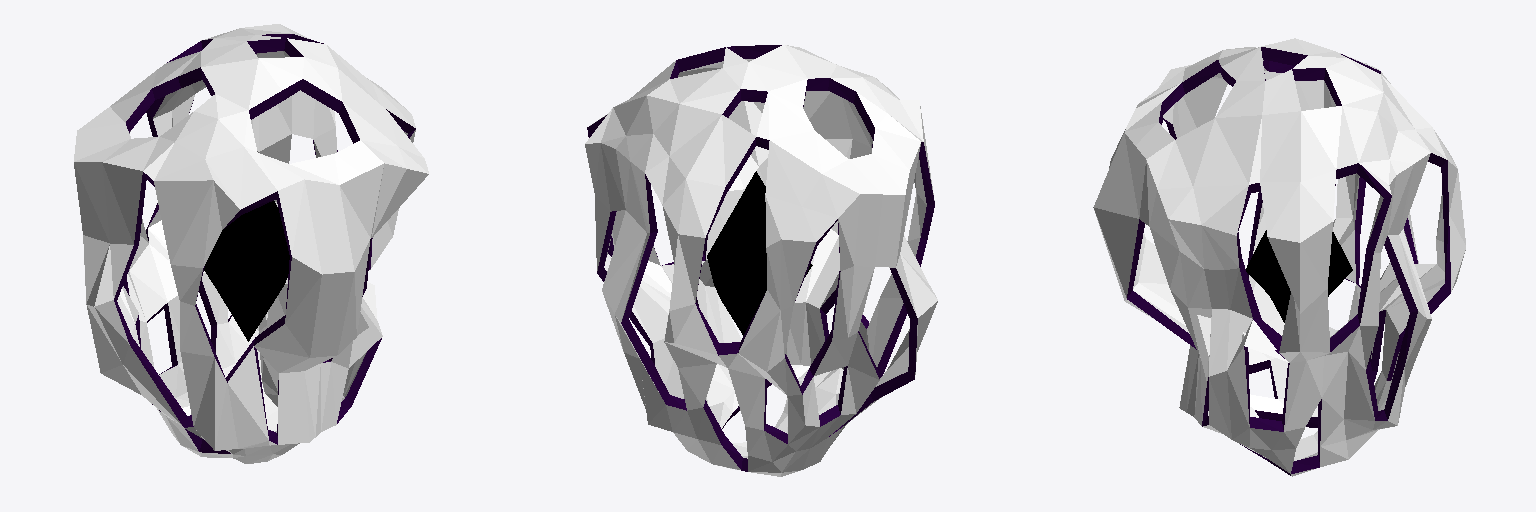
The model's file is whitePlanet.obj.
3 views of the same model, side by side, from view 1: azimuth 30°, elevation 25°; view 2: azimuth 150°, elevation 25°; view 3: azimuth 270°, elevation 25° (orthographic).
Parts seen in each view (by area): view 1: Cube.009_Cube.010; view 2: Cube.009_Cube.010; view 3: Cube.009_Cube.010.
Part boxes in pixels (left/top/right/bottom): Cube.009_Cube.010: left=74, top=24, right=428, bottom=463; Cube.009_Cube.010: left=585, top=45, right=937, bottom=476; Cube.009_Cube.010: left=1093, top=38, right=1465, bottom=476.
Size of the model in its own units: 98.91 by 117 by 96.17.